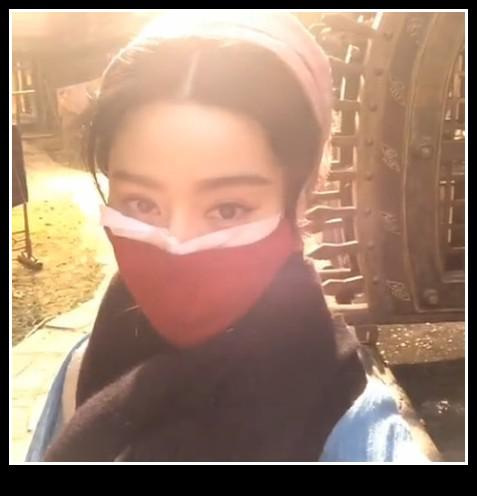OK: (99, 163, 279, 343)
